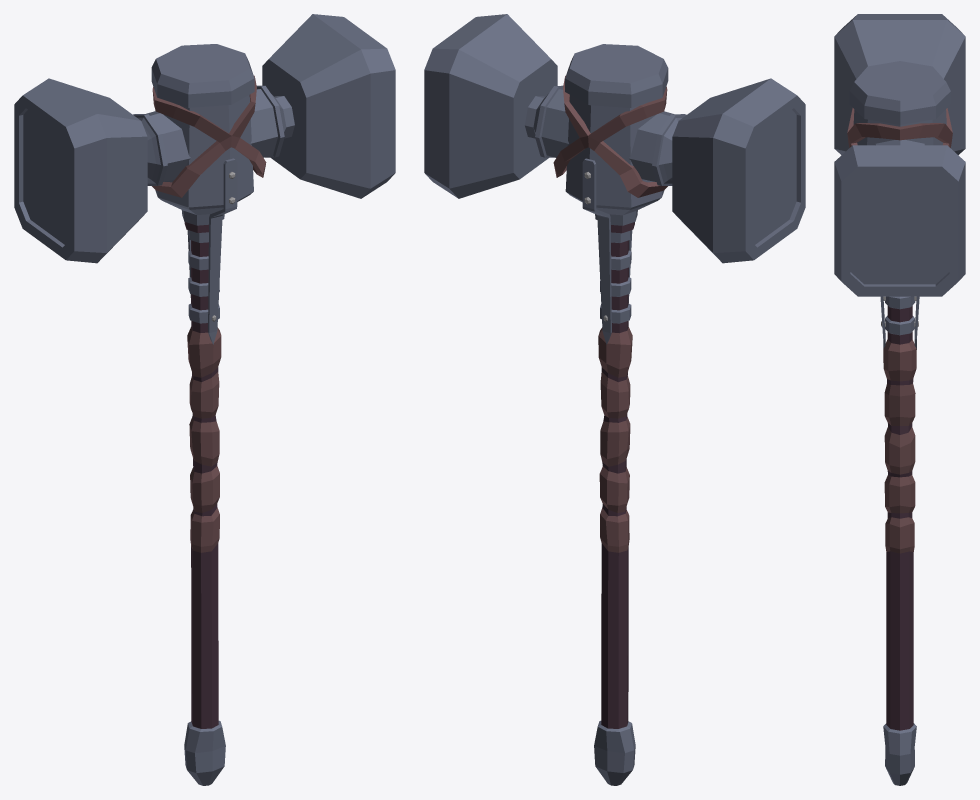
File: hammer.glb
The picture shows the model from 3 angles, left to right: view 1: azimuth 30°, elevation 25°; view 2: azimuth 150°, elevation 25°; view 3: azimuth 270°, elevation 25°; orthographic projection. The views are drawn at different scales.
Visible parts, largest first — view 1: Weapon; view 2: Weapon; view 3: Weapon.
Boxes of the visible parts, bbox=[...] form: Weapon: bbox=[14, 14, 395, 785]; Weapon: bbox=[424, 14, 805, 785]; Weapon: bbox=[834, 14, 965, 785].
Size of the model in its own units: 0.6308 by 1.35 by 0.2292.
